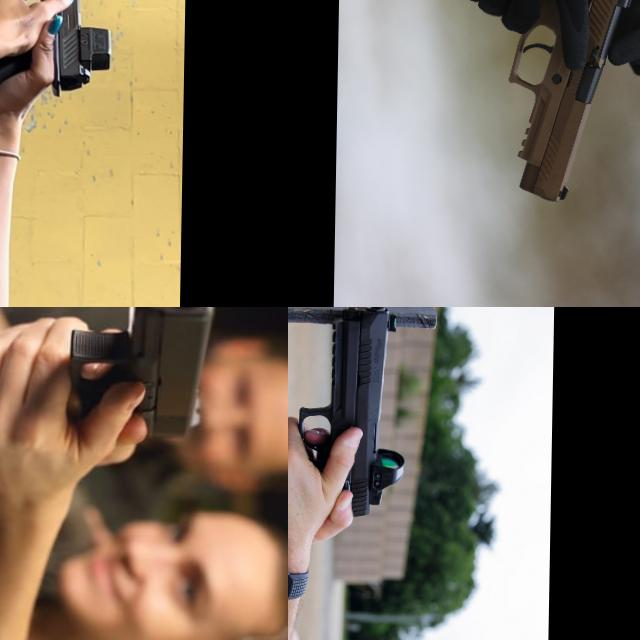handgun: (501, 0, 637, 207), (293, 307, 407, 523), (64, 307, 227, 448), (10, 0, 96, 101)
